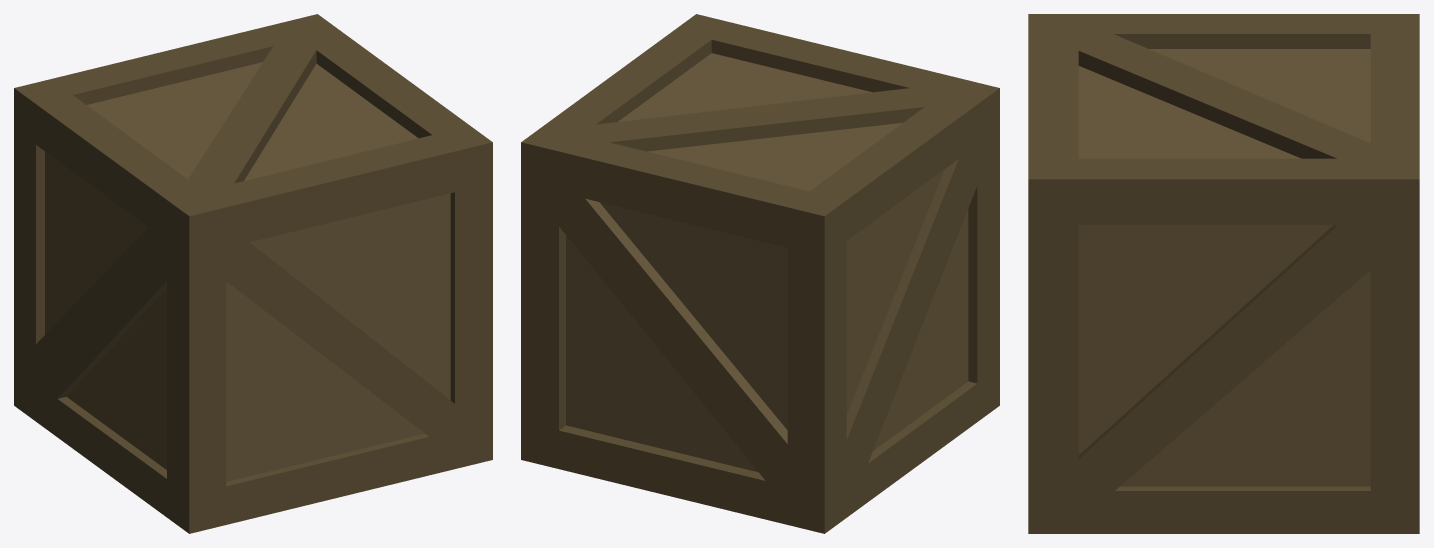
3 views of the same model, side by side, from view 1: azimuth 30°, elevation 25°; view 2: azimuth 150°, elevation 25°; view 3: azimuth 270°, elevation 25° (orthographic). The views are drawn at different scales.
Parts seen in each view (by area): view 1: pCube1; view 2: pCube1; view 3: pCube1.
Part boxes in pixels (x1,y1,x2,y2): pCube1: [14, 14, 492, 533]; pCube1: [521, 14, 999, 533]; pCube1: [1028, 14, 1419, 533].
Size of the model in its own units: 7.97 by 7.97 by 7.97.
